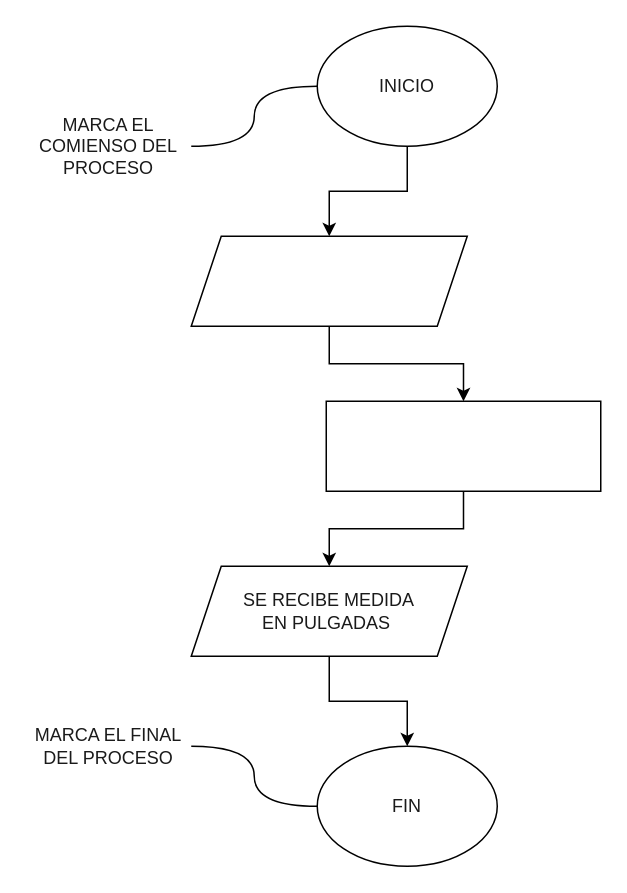
Some shapes in this 627 by 893 pixel diagram are drawn without their labels. The centre of each missing label's shape, as x and y in pixels:
"MIDA EN PULGADAS = MEDIDA EN METROS / 0.0254" goes at [463,445].
"SE RECIBE MEDIDA EN METROS" goes at [328,280].
